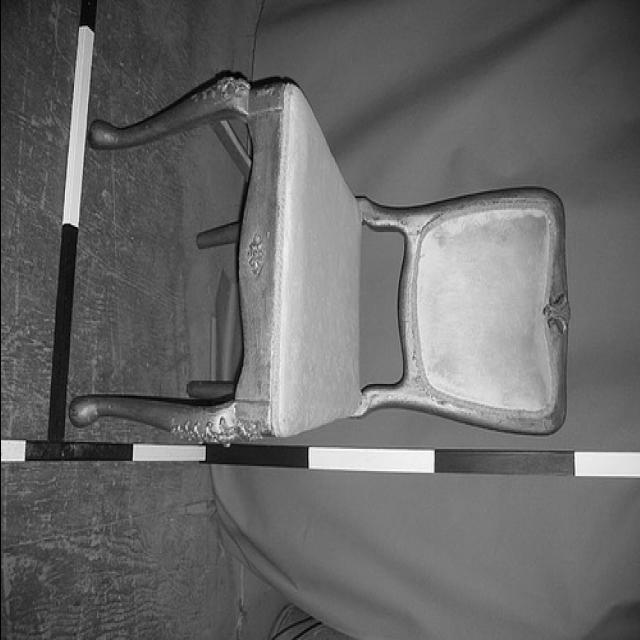chair: (69, 72, 572, 444)
